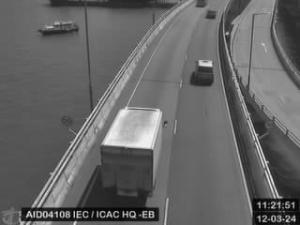truck: (100, 105, 168, 202)
vehicle: (195, 60, 214, 84), (206, 9, 220, 19), (196, 1, 204, 8)
